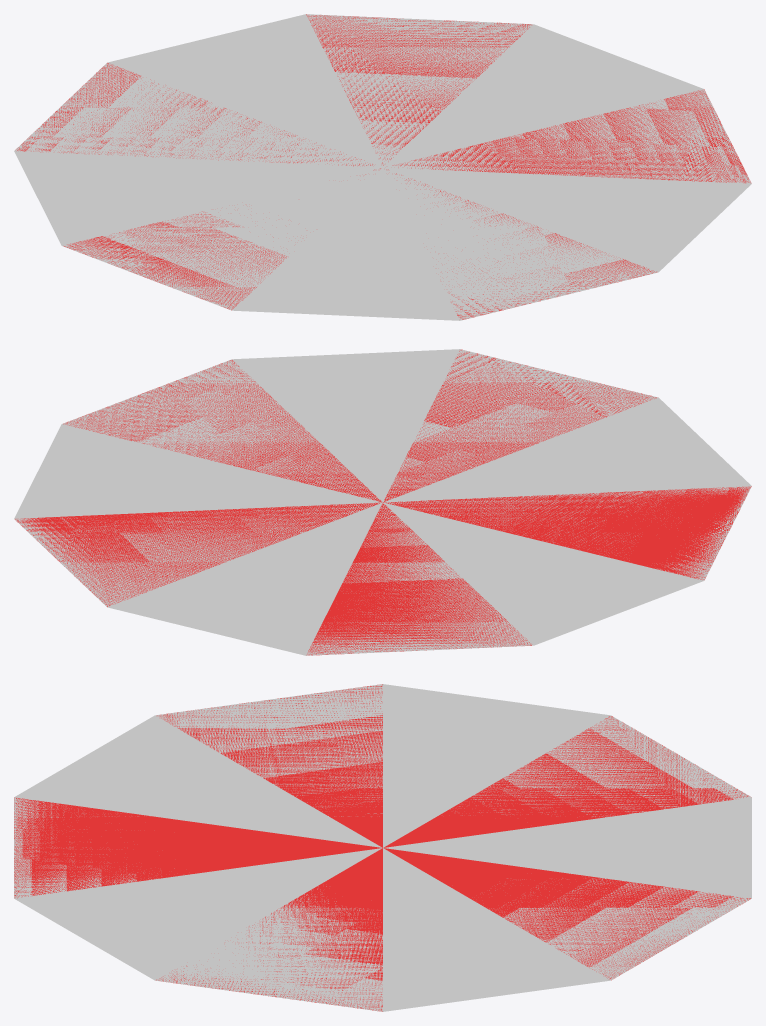
Rendered from MainPlayground.fbx.
3 renders of one model, top to bottom at view 1: azimuth 30°, elevation 25°; view 2: azimuth 150°, elevation 25°; view 3: azimuth 270°, elevation 25°, orthographic. The views are drawn at different scales.
Visible parts, largest first — view 1: Cylinder001; view 2: Cylinder001; view 3: Cylinder001.
Boxes of the visible parts, x1,y1,x2,y2 form: Cylinder001: (14,14,751,320); Cylinder001: (14,349,751,655); Cylinder001: (14,684,751,1011).
Bounding box in the file's own units: 37.54 × 35.71 × 0.
